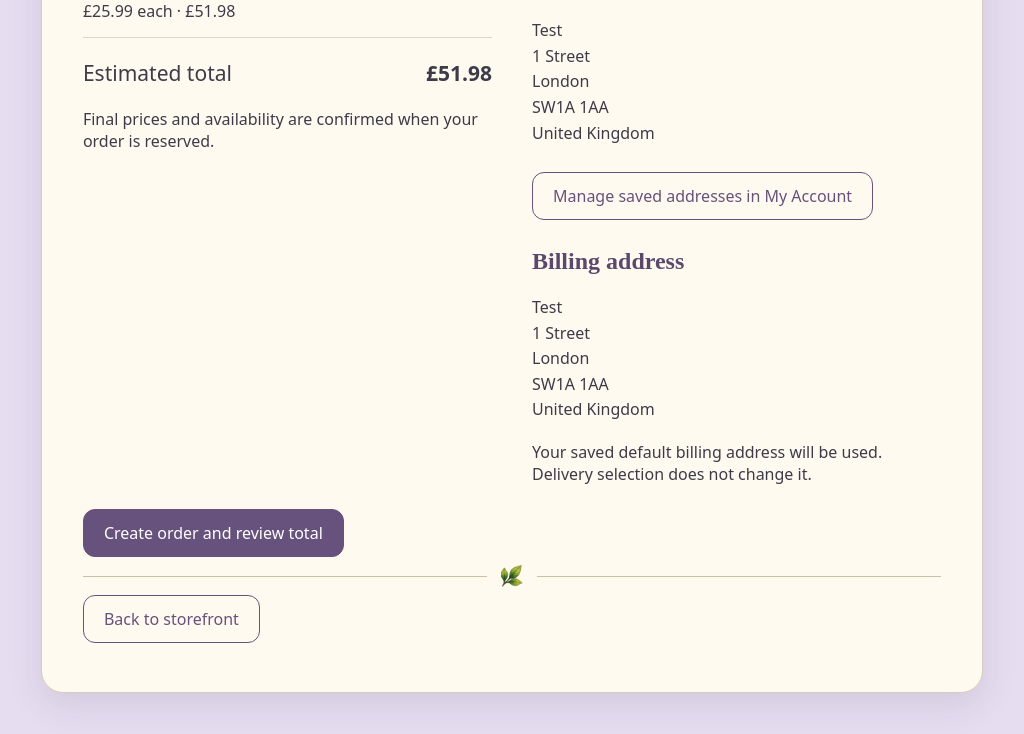
Test: email verification and preserved checkout integration › keeps the saved attempt and verification UX after reload with an unverified session
(page scrolled)
Click the button "Create order and review total".
click(213, 533)  # box [83,509,344,557]
(page scrolled)
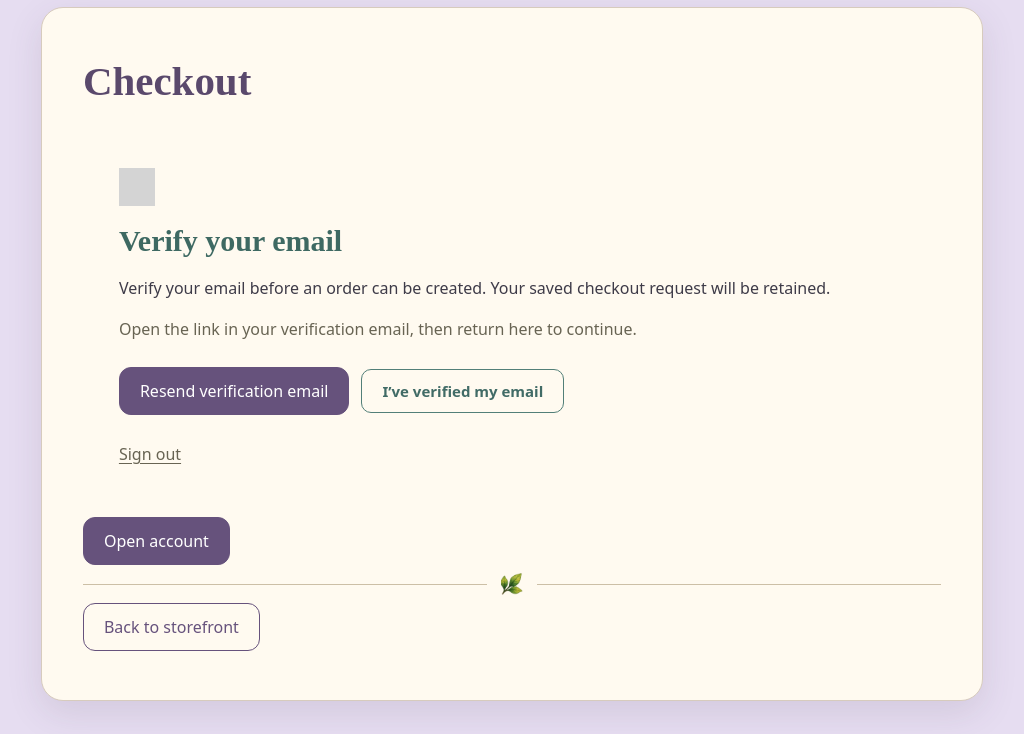
Check: the text "Verify your email" is shown, box [119,224,342,257]
Check: the text "Resend verification email" is shown, box [119,367,350,415]
